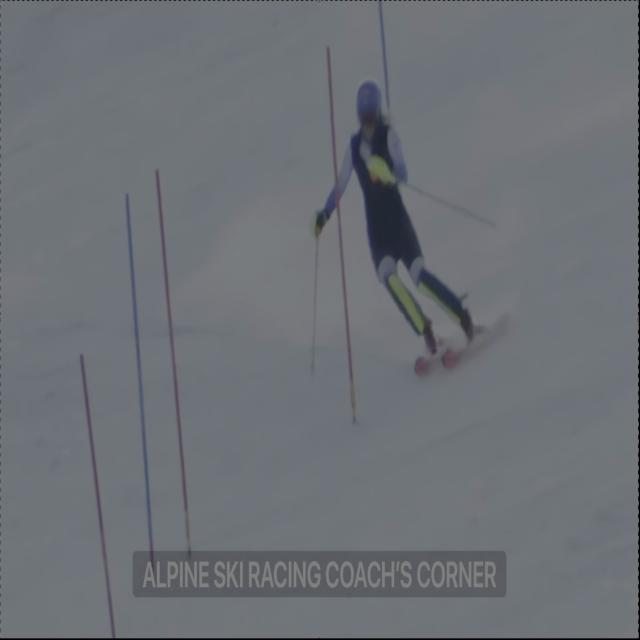gate: (147, 165, 212, 565), (107, 186, 172, 551), (313, 48, 364, 425)
